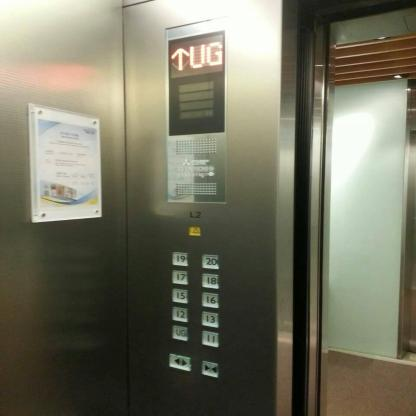11: (201, 330, 219, 347)
12: (172, 306, 186, 322)
13: (201, 311, 218, 327)
15: (172, 289, 188, 303)
16: (201, 292, 218, 308)
17: (172, 270, 187, 284)
18: (200, 272, 220, 288)
19: (171, 252, 188, 266)
20: (201, 254, 219, 270)
UG: (171, 326, 187, 340)
alarm: (187, 226, 201, 236)
close: (201, 361, 218, 377)
led: (168, 30, 225, 137)
open: (168, 354, 191, 371)
